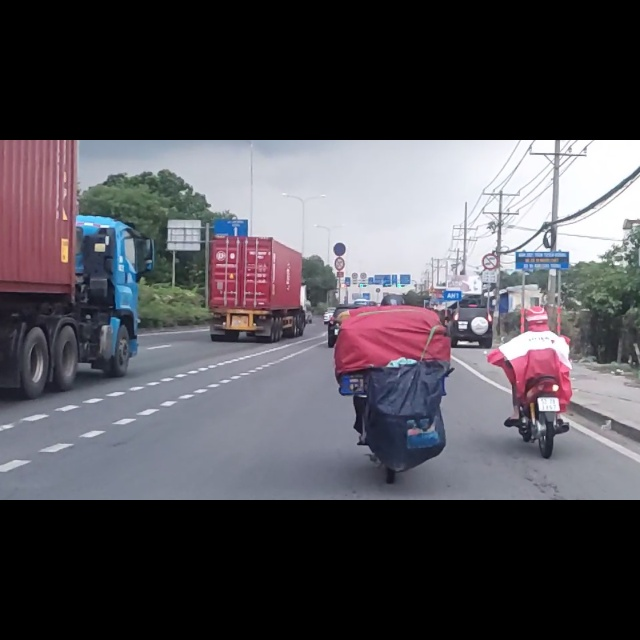bien_chi_dan: (482, 201, 499, 232), (332, 181, 347, 205), (335, 209, 345, 231)
